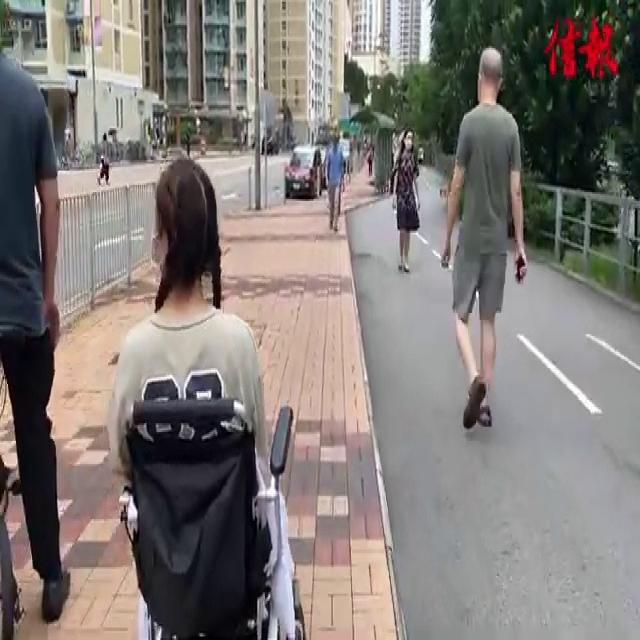wheelchairs: (105, 382, 318, 640)
